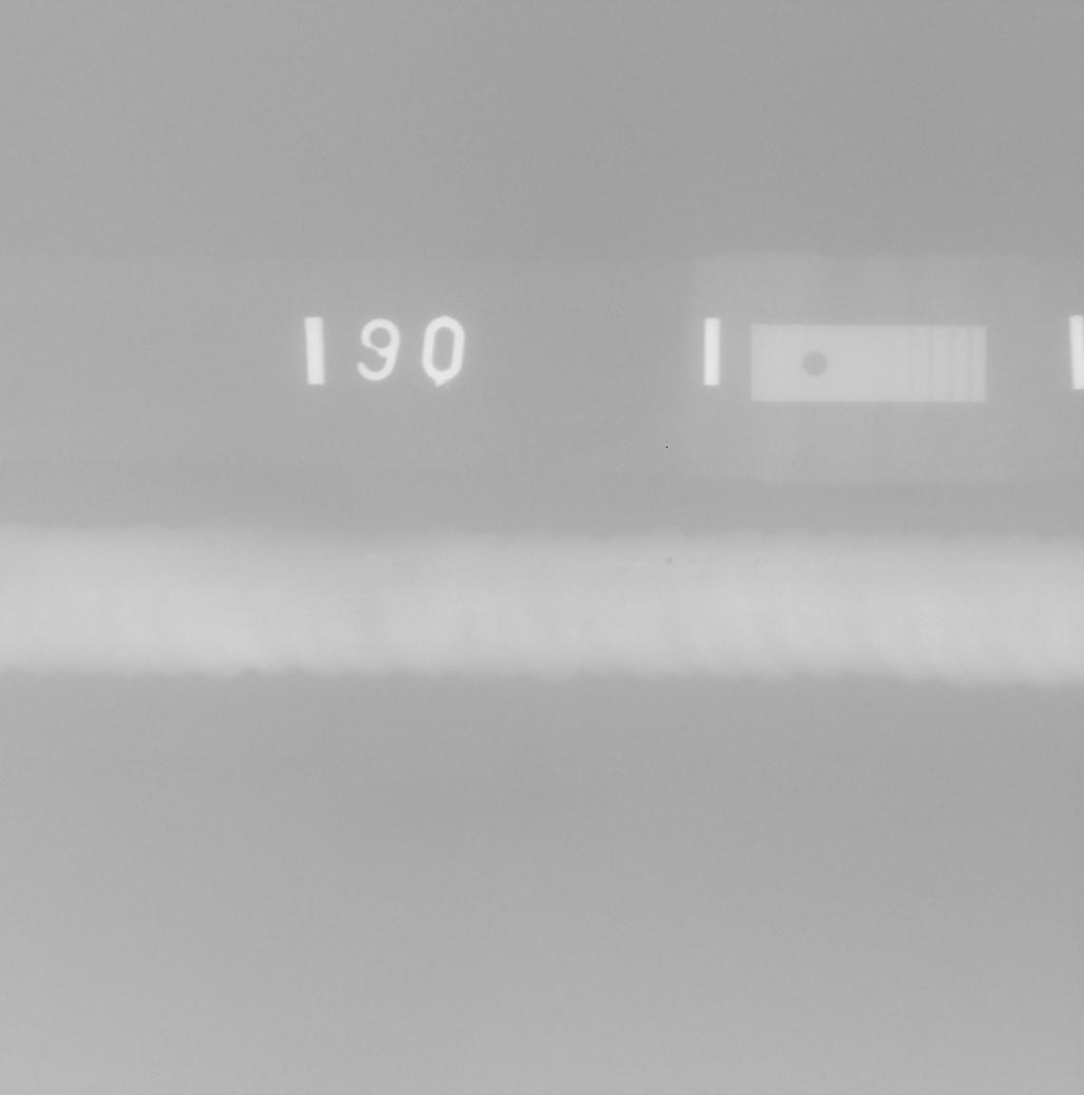Inclusion: (761, 562, 770, 565), (756, 558, 760, 564), (688, 562, 695, 563)
Pore/Porosity: (666, 558, 673, 564)
Reference Standard 1: (751, 324, 986, 402)
